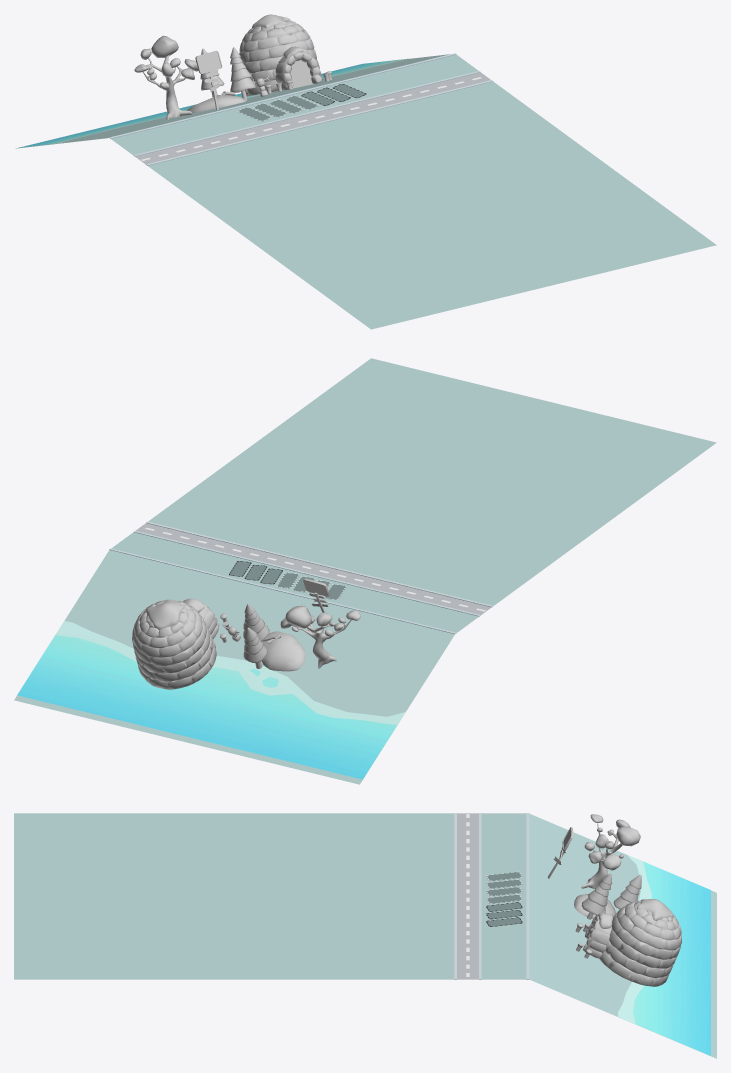
File: 06_Envi.fbx
3 renders of one model, top to bottom at view 1: azimuth 30°, elevation 25°; view 2: azimuth 150°, elevation 25°; view 3: azimuth 270°, elevation 25°, orthographic.
Visible parts, largest first — view 1: Object, 03_Parking.002, IH1_Ice_House_1_Fantasy_Mat_0, 03_Road.003, 03_Plane.009, IN_Tree_4_Fantasy_Mat_0, 03_Plane.010, 03_Plane.011, IN_Tree_1_Fantasy_Mat_0, tambien, 03_Plane.012, IH2_SnowDrift_3_Fantasy_Mat_0; view 2: Object, 03_Plane.009, 03_Plane.010, 03_Parking.002, IH1_Ice_House_1_Fantasy_Mat_0, 03_Road.003, IN_Tree_4_Fantasy_Mat_0, IH2_SnowDrift_3_Fantasy_Mat_0, 03_Plane.012, 03_Plane.011; view 3: Object, 03_Plane.009, 03_Plane.010, 03_Parking.002, IH1_Ice_House_1_Fantasy_Mat_0, 03_Road.003, IN_Tree_4_Fantasy_Mat_0, 03_Plane.011, IN_Tree_1_Fantasy_Mat_0, 03_Plane.012, IN_Tree_2_Fantasy_Mat_0.
Part boxes in pixels (bbox=[...]): Object: bbox=[146, 80, 716, 329]; 03_Parking.002: bbox=[109, 53, 480, 156]; IH1_Ice_House_1_Fantasy_Mat_0: bbox=[239, 14, 322, 96]; 03_Road.003: bbox=[135, 72, 490, 164]; 03_Plane.009: bbox=[15, 54, 449, 148]; IN_Tree_4_Fantasy_Mat_0: bbox=[134, 35, 198, 119]; 03_Plane.010: bbox=[19, 58, 408, 147]; 03_Plane.011: bbox=[237, 95, 318, 121]; IN_Tree_1_Fantasy_Mat_0: bbox=[230, 47, 255, 100]; tambien: bbox=[195, 50, 222, 110]; 03_Plane.012: bbox=[301, 84, 366, 105]; IH2_SnowDrift_3_Fantasy_Mat_0: bbox=[187, 95, 245, 113]; Object: bbox=[146, 358, 716, 607]; 03_Plane.009: bbox=[14, 550, 454, 784]; 03_Plane.010: bbox=[17, 621, 405, 779]; 03_Parking.002: bbox=[109, 530, 480, 633]; IH1_Ice_House_1_Fantasy_Mat_0: bbox=[132, 598, 219, 689]; 03_Road.003: bbox=[136, 523, 491, 615]; IN_Tree_4_Fantasy_Mat_0: bbox=[280, 605, 360, 668]; IH2_SnowDrift_3_Fantasy_Mat_0: bbox=[261, 631, 305, 671]; 03_Plane.012: bbox=[229, 561, 282, 584]; 03_Plane.011: bbox=[276, 572, 346, 599]; Object: bbox=[14, 813, 456, 979]; 03_Plane.009: bbox=[529, 813, 716, 1058]; 03_Plane.010: bbox=[618, 854, 710, 1055]; 03_Parking.002: bbox=[479, 813, 529, 979]; IH1_Ice_House_1_Fantasy_Mat_0: bbox=[583, 899, 681, 986]; 03_Road.003: bbox=[457, 813, 478, 979]; IN_Tree_4_Fantasy_Mat_0: bbox=[581, 814, 640, 888]; 03_Plane.011: bbox=[486, 871, 522, 903]; IN_Tree_1_Fantasy_Mat_0: bbox=[581, 873, 612, 919]; 03_Plane.012: bbox=[486, 902, 522, 926]; IN_Tree_2_Fantasy_Mat_0: bbox=[613, 874, 641, 909].
Size of the model in its own units: 4000 by 1338 by 7156.
